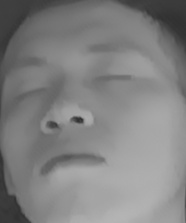blink: (96, 68, 139, 92), (11, 82, 46, 106)
mouth: (32, 141, 109, 185)
